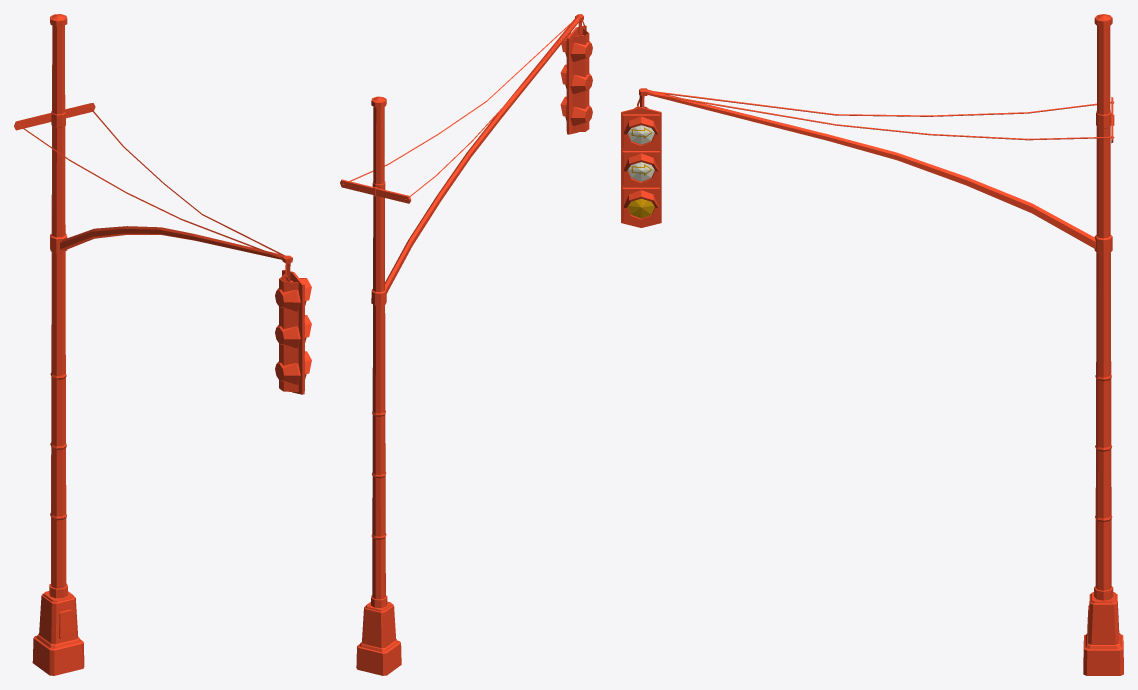
Rendered from SM_Light_B_City.fbx.
3 views of the same model, side by side, from view 1: azimuth 30°, elevation 25°; view 2: azimuth 150°, elevation 25°; view 3: azimuth 270°, elevation 25° (orthographic). The views are drawn at different scales.
Visible parts, largest first — view 1: SM_Light_B_City; view 2: SM_Light_B_City; view 3: SM_Light_B_City.
Part boxes in pixels (x1=…): SM_Light_B_City: x1=14, y1=14, x2=311, y2=675; SM_Light_B_City: x1=340, y1=14, x2=592, y2=675; SM_Light_B_City: x1=621, y1=14, x2=1123, y2=675.
Bounding box in the file's own units: 0.8104 × 6.17 × 4.31.
